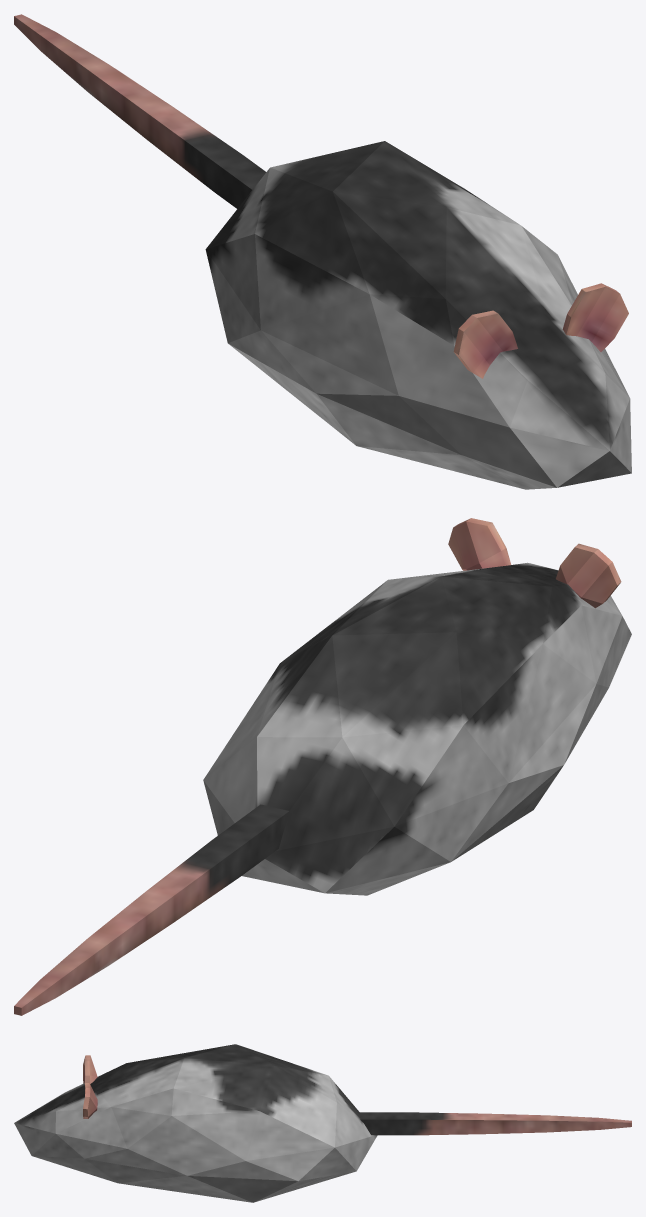
The model's file is rat2.obj.
3 views of the same model, one above another, from view 1: azimuth 30°, elevation 25°; view 2: azimuth 150°, elevation 25°; view 3: azimuth 270°, elevation 25° (orthographic). The views are drawn at different scales.
Parts seen in each view (by area): view 1: rat; view 2: rat; view 3: rat.
Boxes of the visible parts, bbox=[...] form: rat: bbox=[14, 14, 631, 489]; rat: bbox=[14, 518, 631, 1015]; rat: bbox=[14, 1044, 631, 1202].
Size of the model in its own units: 0.571 by 0.5159 by 2.3.
Materials: 1 (1 with a texture image).
